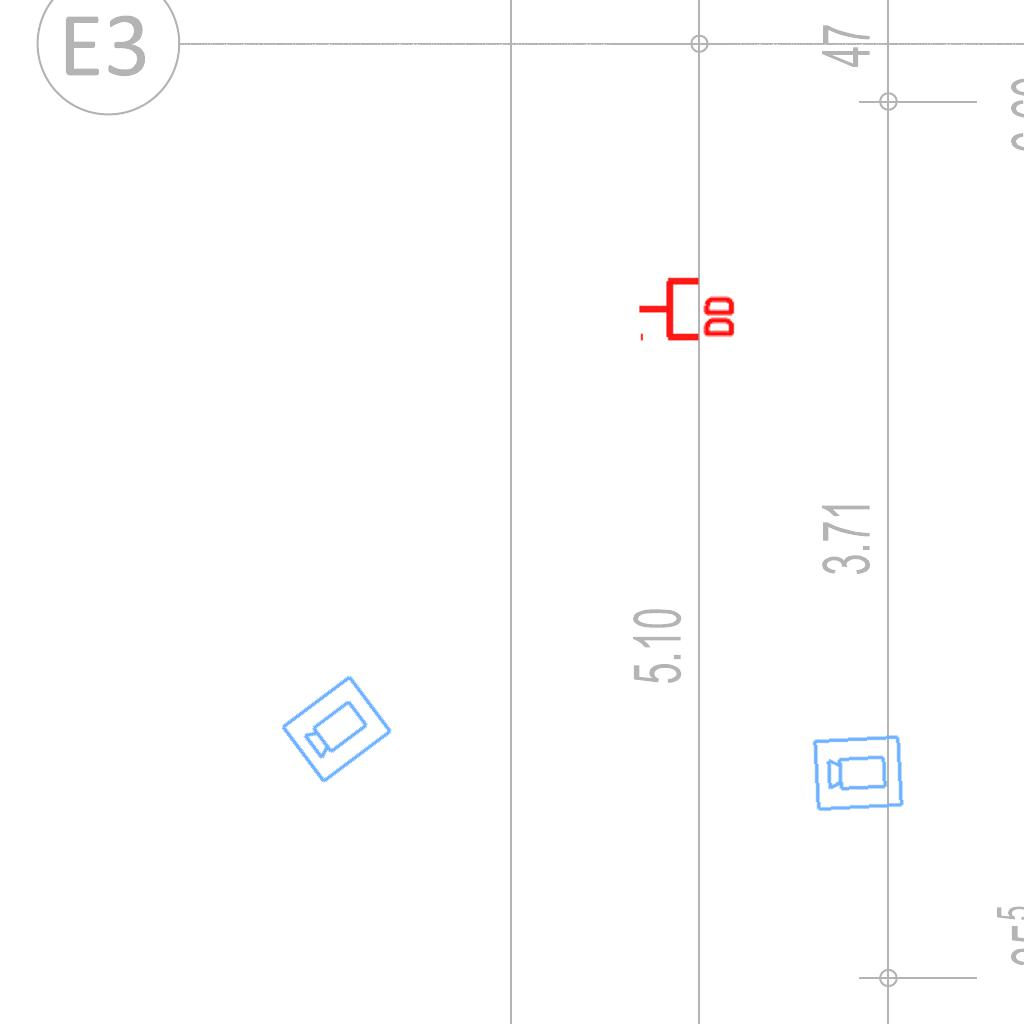Datenanschluss_zweifach: (636, 273, 739, 342)
KFO_Kamera_mit_Festobjektiv: (276, 670, 397, 787), (811, 731, 906, 814)
